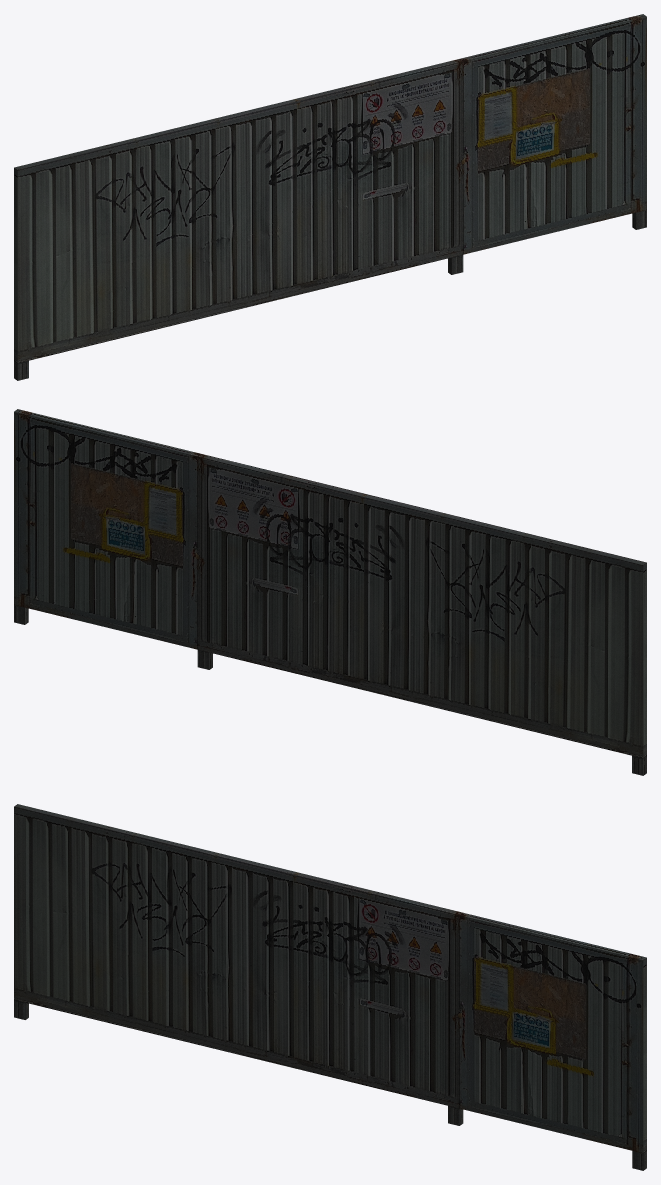
Rendered from gate_1.glb.
3 views of the same model, one above another, from view 1: azimuth 30°, elevation 25°; view 2: azimuth 150°, elevation 25°; view 3: azimuth 330°, elevation 25° (orthographic).
Parts seen in each view (by area): view 1: gate_1; view 2: gate_1; view 3: gate_1.
Boxes of the visible parts, left/top/right/bottom form: gate_1: left=14, top=14, right=646, bottom=380; gate_1: left=14, top=409, right=646, bottom=775; gate_1: left=14, top=804, right=646, bottom=1170.
Size of the model in its own units: 5 by 1.6 by 0.05.
1 material, 1 textured.
